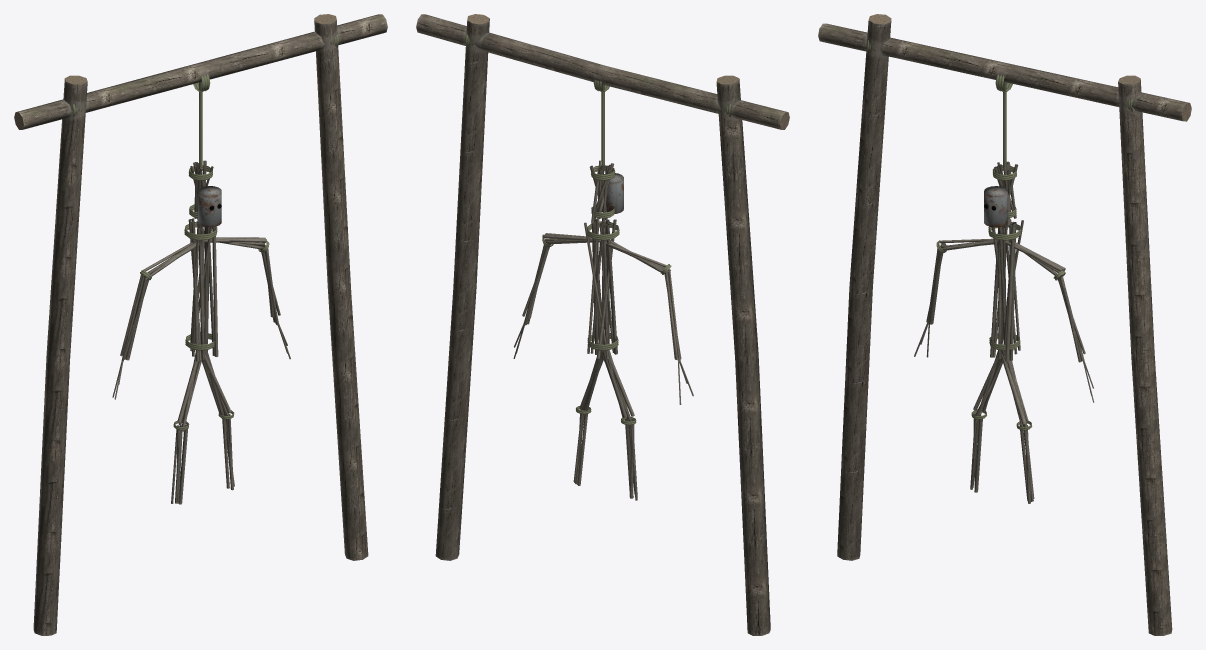
The model's file is totem.glb.
The picture shows the model from 3 angles, left to right: view 1: azimuth 30°, elevation 25°; view 2: azimuth 150°, elevation 25°; view 3: azimuth 330°, elevation 25°; orthographic projection.
Visible parts, largest first — view 1: totem; view 2: totem; view 3: totem.
Part boxes in pixels (x1,y1,x2,y2): totem: (14,14,387,635); totem: (416,14,789,635); totem: (818,14,1191,635).
Size of the model in its own units: 2.1 by 3.01 by 0.2367.
Materials: 1 (1 with a texture image).
